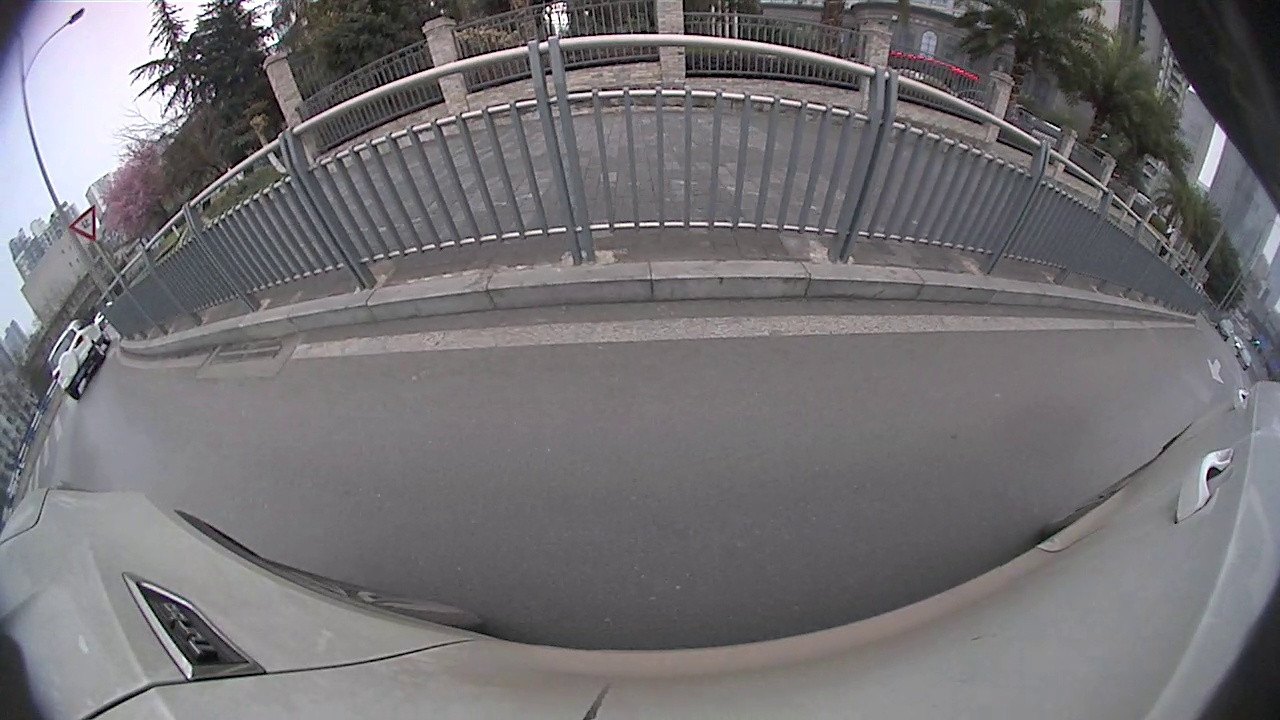car: (43, 244, 138, 370), (1193, 374, 1278, 511)
front: (1206, 423, 1231, 448), (76, 303, 97, 332)
rear: (1238, 488, 1257, 513), (119, 262, 137, 283)
